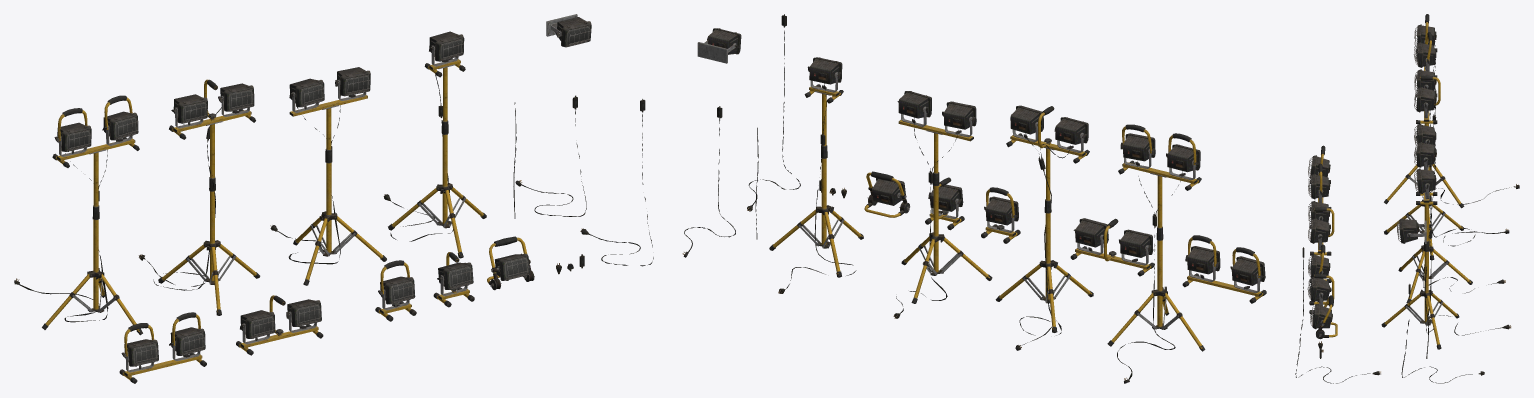
The model's file is flood_lights.glb.
The picture shows the model from 3 angles, left to right: view 1: azimuth 30°, elevation 25°; view 2: azimuth 150°, elevation 25°; view 3: azimuth 270°, elevation 25°; orthographic projection. The views are drawn at different scales.
Parts seen in each view (by area): view 1: flood_lights_standing_single_stand, flood_lights_standing_double_c_stand, flood_lights_standing_double_b_stand, flood_lights_standing_double_a_stand, flood_lights_wall_light, flood_lights_standing_single_light, flood_lights_standing_double_b_light_01, flood_lights_standing_double_c_light_02, flood_lights_standing_double_b_light_02, flood_lights_floor_double_b_light_01, flood_lights_standing_double_a_bar, flood_lights_standing_double_c_light_01 (+12 smaller); view 2: flood_lights_standing_single_stand, flood_lights_standing_double_c_stand, flood_lights_standing_double_b_stand, flood_lights_standing_double_a_stand, flood_lights_standing_double_a_bar, flood_lights_standing_double_c_light_01, flood_lights_floor_double_b_light_01, flood_lights_standing_double_b_light_01, flood_lights_standing_single_light, flood_lights_standing_double_c_light_02, flood_lights_floor_double_a_light_01, flood_lights_floor_double_b_light_02 (+13 smaller); view 3: flood_lights_standing_single_stand, flood_lights_standing_double_c_stand, flood_lights_standing_double_b_stand, flood_lights_standing_double_b_light_02, flood_lights_standing_double_c_light_02, flood_lights_standing_single_light, flood_lights_floor_single_b_light, flood_lights_floor_double_b_light_02, flood_lights_standing_double_a_stand, flood_lights_wall_light, flood_lights_standing_double_a_light_02, flood_lights_floor_single_light_c (+13 smaller).
Part boxes in pixels (x1,y1,x2,y2): flood_lights_standing_single_stand: [388, 120, 486, 258]; flood_lights_standing_double_c_stand: [293, 149, 386, 285]; flood_lights_standing_double_b_stand: [158, 177, 260, 315]; flood_lights_standing_double_a_stand: [42, 205, 142, 335]; flood_lights_wall_light: [555, 17, 591, 47]; flood_lights_standing_single_light: [429, 31, 464, 61]; flood_lights_standing_double_b_light_01: [171, 94, 207, 123]; flood_lights_standing_double_c_light_02: [335, 67, 370, 96]; flood_lights_standing_double_b_light_02: [218, 83, 254, 111]; flood_lights_floor_double_b_light_01: [240, 310, 275, 338]; flood_lights_standing_double_a_bar: [52, 137, 139, 206]; flood_lights_standing_double_c_light_01: [289, 78, 324, 107]; flood_lights_standing_single_stand: [769, 144, 863, 277]; flood_lights_standing_double_c_stand: [901, 172, 992, 303]; flood_lights_standing_double_b_stand: [995, 199, 1093, 332]; flood_lights_standing_double_a_stand: [1107, 226, 1205, 351]; flood_lights_standing_double_a_bar: [1118, 160, 1201, 227]; flood_lights_standing_double_c_light_01: [942, 101, 976, 129]; flood_lights_floor_double_b_light_01: [1119, 229, 1153, 257]; flood_lights_standing_double_b_light_01: [1054, 117, 1088, 144]; flood_lights_standing_single_light: [807, 57, 842, 84]; flood_lights_standing_double_c_light_02: [897, 91, 931, 118]; flood_lights_floor_double_a_light_01: [1231, 256, 1265, 285]; flood_lights_floor_double_b_light_02: [1073, 218, 1108, 247]; flood_lights_standing_single_stand: [1381, 240, 1459, 349]; flood_lights_standing_double_c_stand: [1398, 204, 1472, 303]; flood_lights_standing_double_b_stand: [1384, 199, 1463, 260]; flood_lights_standing_double_b_light_02: [1414, 87, 1436, 112]; flood_lights_standing_double_c_light_02: [1414, 142, 1436, 167]; flood_lights_standing_single_light: [1414, 168, 1436, 193]; flood_lights_floor_single_b_light: [1307, 277, 1330, 302]; flood_lights_floor_double_b_light_02: [1308, 218, 1330, 243]; flood_lights_standing_double_a_stand: [1384, 113, 1464, 208]; flood_lights_wall_light: [1397, 218, 1419, 243]; flood_lights_standing_double_a_light_02: [1413, 42, 1436, 67]; flood_lights_floor_single_light_c: [1310, 304, 1332, 329].
Size of the model in its own units: 4.6 by 1.81 by 2.11.
Materials: 2 (2 with a texture image).
